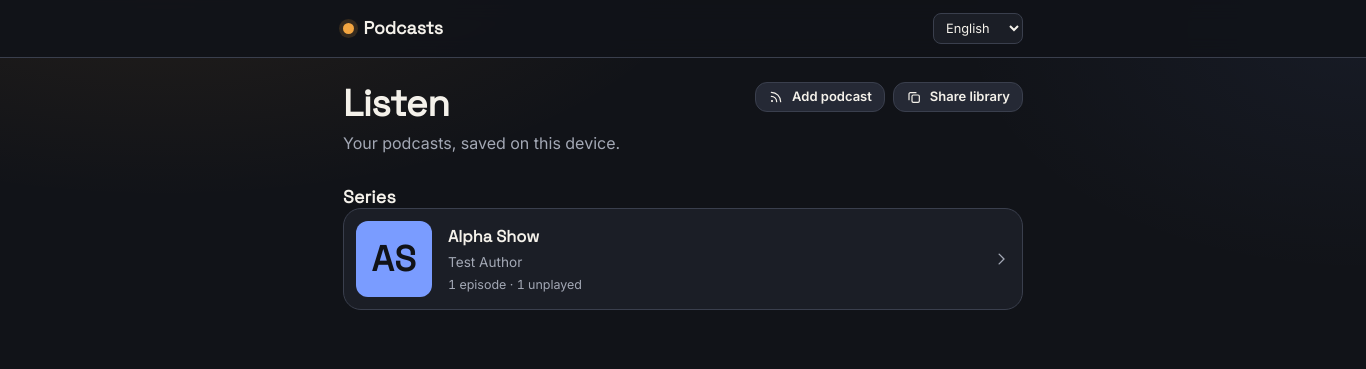
Scenario: library › switches the interface to French
Step 1. Select "Français" in the dropdown named "Language" → (978, 28), box [933, 13, 1023, 44]
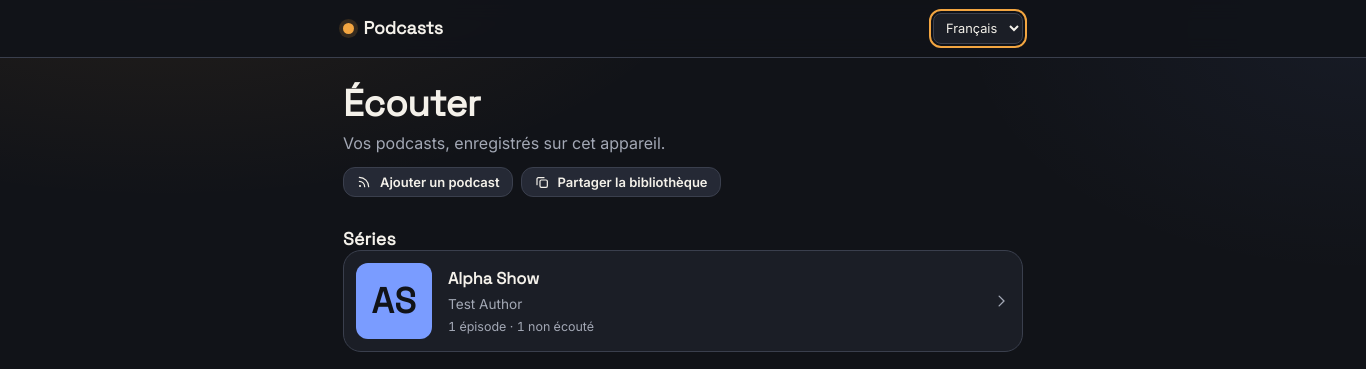
Now the heading "Écouter" is shown, box [343, 80, 480, 127]
Now the text "Vos podcasts, enregistrés sur cet appareil." is shown, box [343, 130, 665, 155]
Now the text "1 épisode · 1 non écouté" is shown, box [448, 319, 594, 334]
